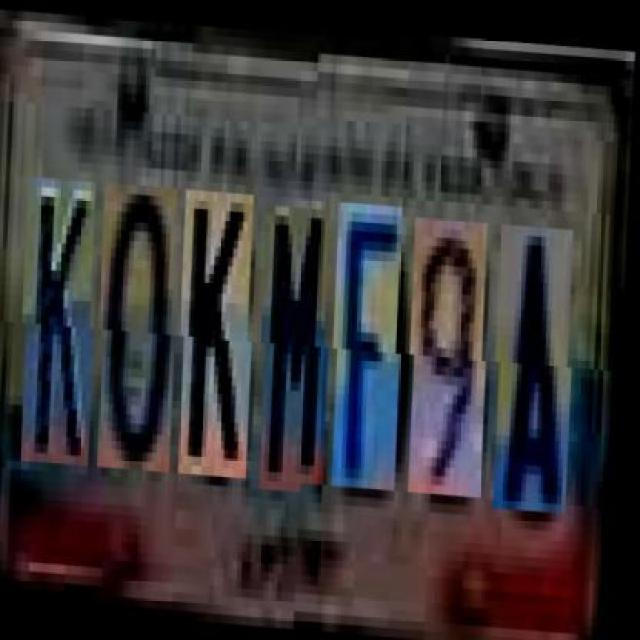9: (412, 218, 493, 498)
a: (497, 225, 580, 512)
f: (334, 205, 408, 493)
k: (182, 187, 260, 475), (26, 177, 102, 465)
m: (262, 201, 336, 488)
o: (101, 182, 184, 469)
